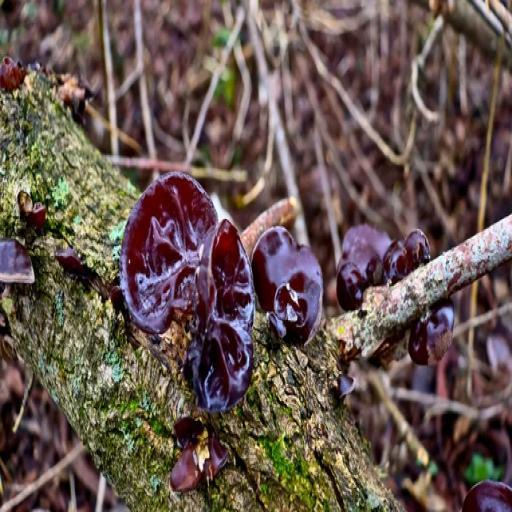mushroom: (114, 165, 262, 420), (248, 222, 333, 355), (337, 226, 430, 299), (168, 416, 232, 504), (403, 291, 454, 372), (455, 463, 511, 512), (0, 235, 40, 291), (16, 175, 49, 231), (334, 365, 361, 406), (0, 51, 28, 89)
